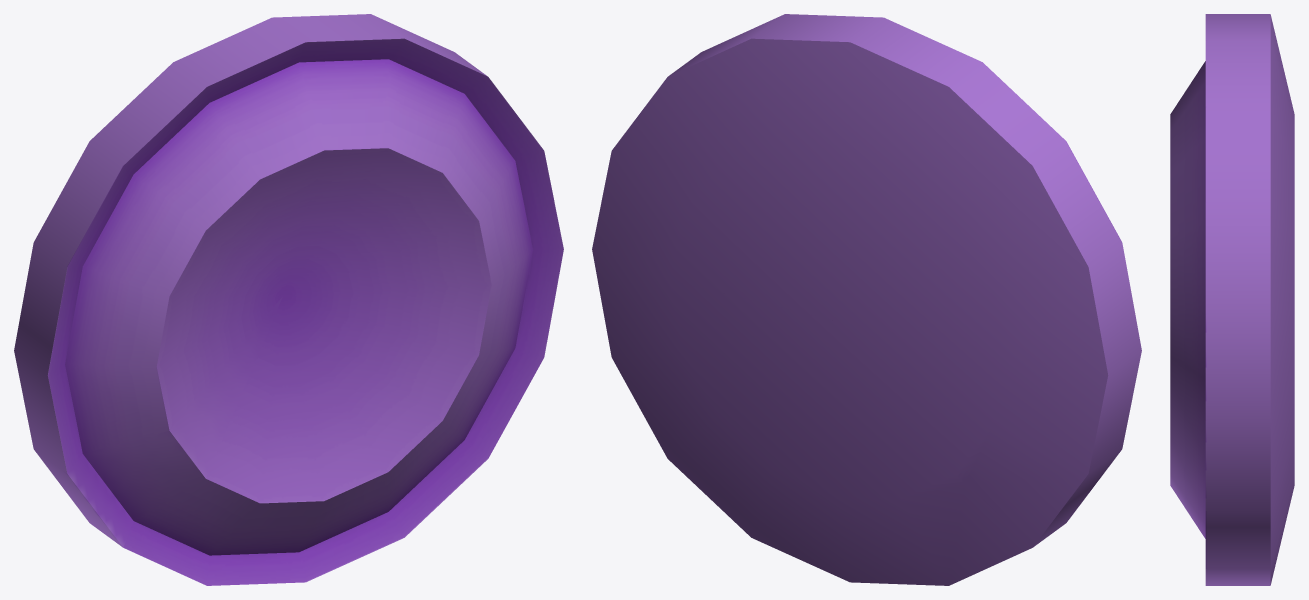
The model's file is spring.fbx.
3 views of the same model, side by side, from view 1: azimuth 30°, elevation 25°; view 2: azimuth 150°, elevation 25°; view 3: azimuth 270°, elevation 25° (orthographic). The views are drawn at different scales.
Parts seen in each view (by area): view 1: Cylinder; view 2: Cylinder; view 3: Cylinder.
Part boxes in pixels (x1,y1,x2,y2): Cylinder: (14, 14, 563, 585); Cylinder: (592, 14, 1141, 585); Cylinder: (1170, 14, 1294, 585).
Size of the model in its own units: 31.36 by 31.36 by 6.81.
1 material, 1 textured.
